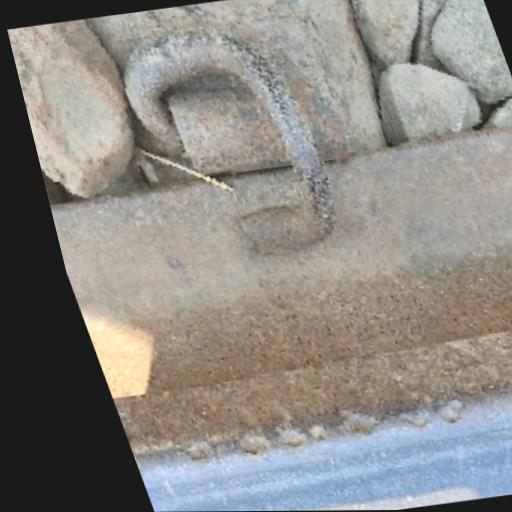erc_good: (88, 0, 383, 255)
